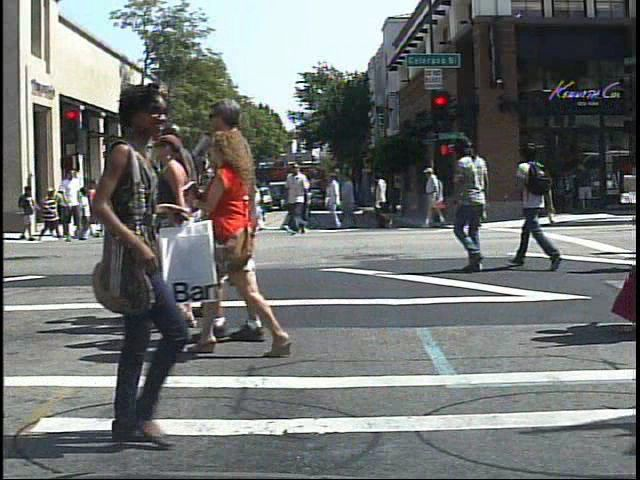person: (60, 79, 223, 453), (190, 120, 291, 360), (184, 94, 268, 346), (511, 137, 565, 274), (448, 135, 499, 277), (163, 155, 201, 248), (120, 161, 150, 243), (419, 159, 450, 232), (108, 163, 136, 243), (59, 166, 84, 243), (38, 184, 62, 242), (87, 181, 107, 223)
